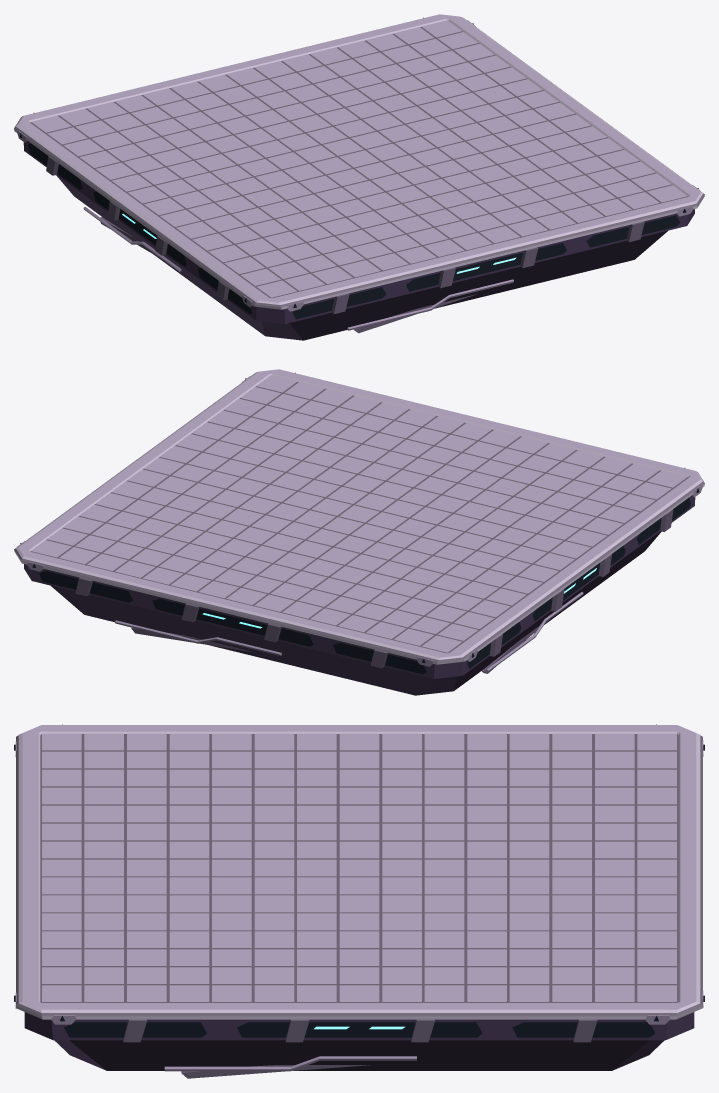
The model's file is overhaul-platform-grotto.glb.
3 renders of one model, top to bottom at view 1: azimuth 30°, elevation 25°; view 2: azimuth 150°, elevation 25°; view 3: azimuth 270°, elevation 25°, orthographic. The views are drawn at different scales.
Visible parts, largest first — view 1: overhaul-platform-grotto; view 2: overhaul-platform-grotto; view 3: overhaul-platform-grotto.
Part boxes in pixels (x1,y1,x2,y2): overhaul-platform-grotto: [14, 14, 704, 340]; overhaul-platform-grotto: [14, 369, 704, 695]; overhaul-platform-grotto: [14, 724, 704, 1078].
Size of the model in its own units: 21.12 by 3.78 by 21.12.
